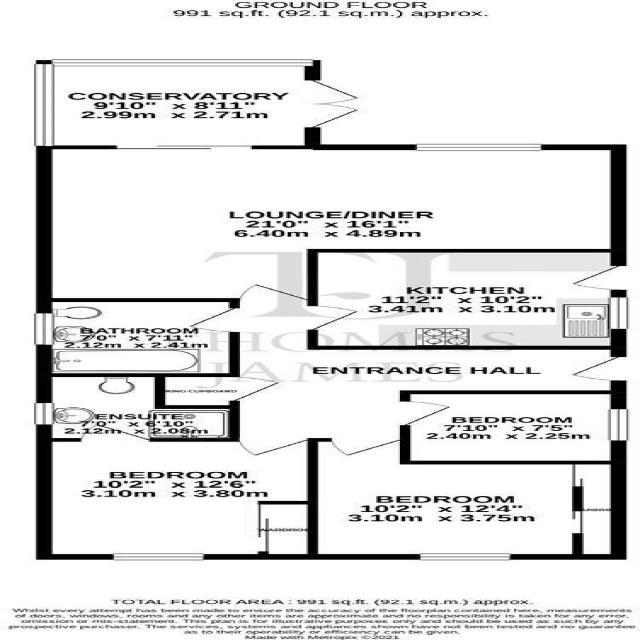DOOR: (236, 283, 311, 306), (566, 264, 628, 290), (568, 355, 626, 382), (306, 304, 362, 331), (327, 438, 403, 457), (186, 307, 239, 333), (401, 399, 452, 426), (236, 438, 309, 456)
ROOM: (35, 145, 626, 303), (308, 437, 626, 559), (34, 438, 319, 560), (307, 248, 630, 350)
WINDOW: (48, 59, 317, 67), (33, 62, 57, 147), (411, 143, 542, 152), (32, 311, 56, 346), (606, 408, 630, 442), (606, 296, 630, 330), (107, 553, 208, 561), (414, 553, 513, 561), (31, 401, 56, 426)
